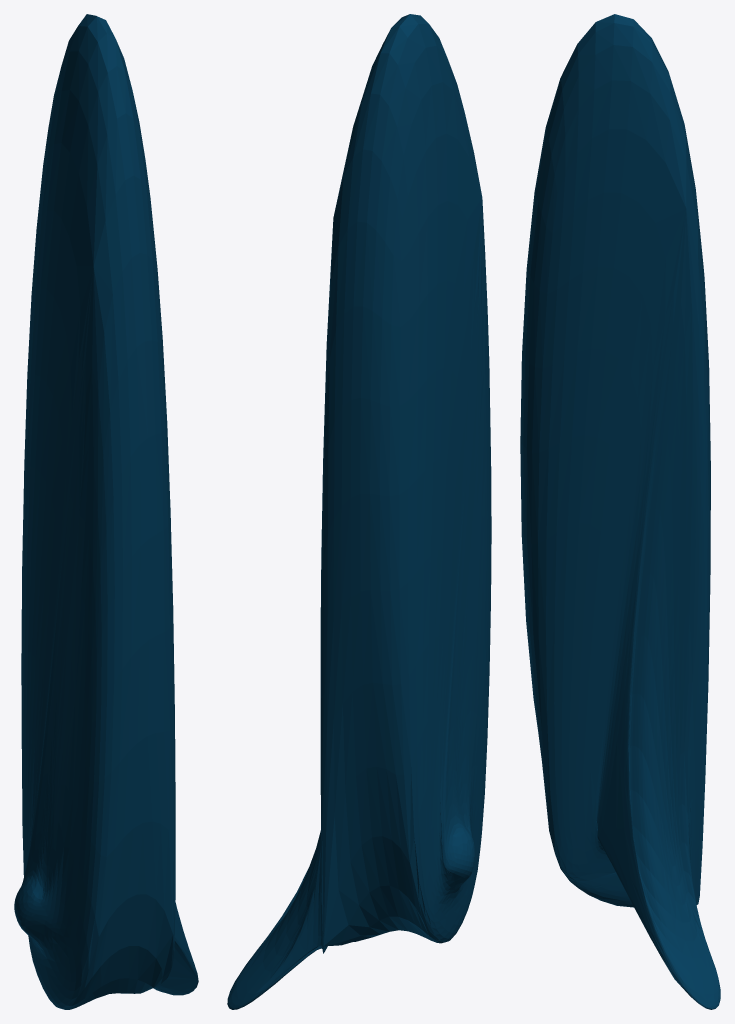
3 views of the same model, side by side, from view 1: azimuth 30°, elevation 25°; view 2: azimuth 150°, elevation 25°; view 3: azimuth 270°, elevation 25° (orthographic). The views are drawn at different scales.
Visible parts, largest first — view 1: 233_Cube.960; view 2: 233_Cube.960; view 3: 233_Cube.960.
Boxes of the visible parts, x1,y1,x2,y2 form: 233_Cube.960: (14, 14, 198, 1009); 233_Cube.960: (227, 14, 491, 1009); 233_Cube.960: (520, 14, 720, 1009).
Bounding box in the file's own units: 2.52 × 11.71 × 2.27.
